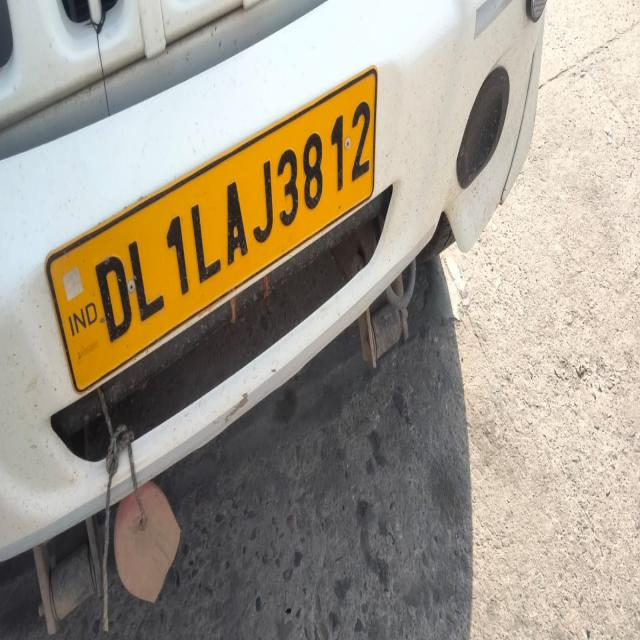License-plate: (65, 58, 386, 415)
